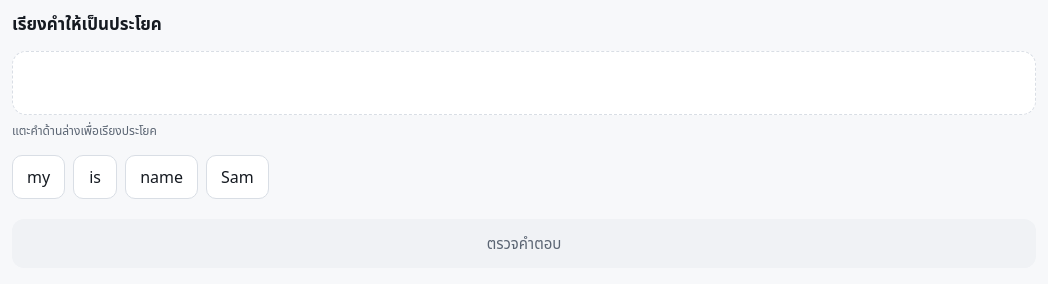
Scenario: ArrangeWords › locks check until every tile is used; tap to add and tap a placed tile to remove
Expected: the button "ตรวจคำตอบ" is disabled, [12,219,1036,268]
Click the button "my" at [39, 177], box [12,155,65,199]
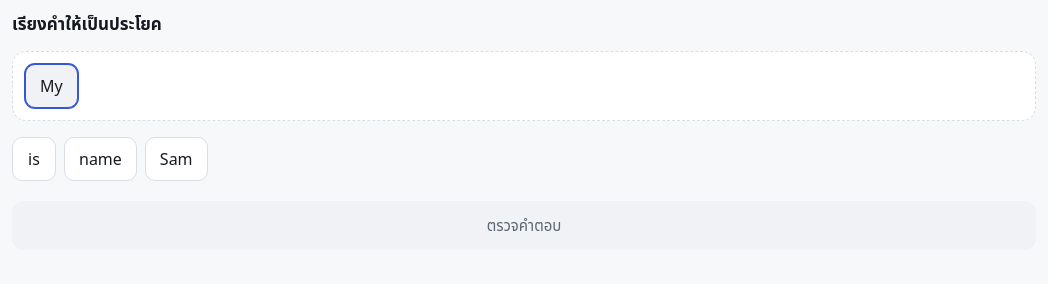
Click the button "name" at [100, 159], box [64,137,137,181]
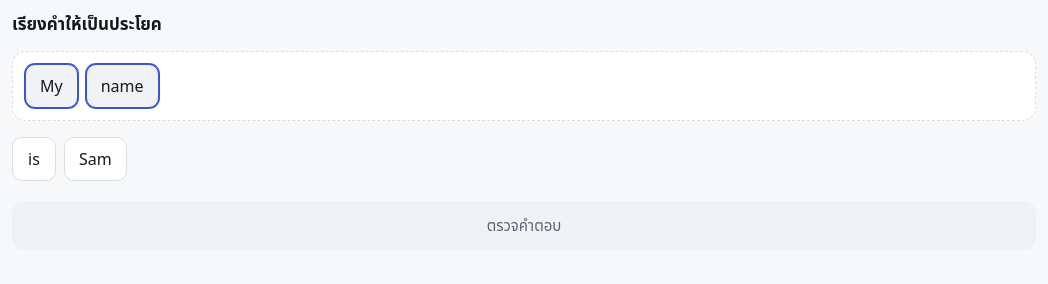
Result: the buttons read "My", "name", in this order
Click the button "My" at [51, 86], box [25,64,78,108]
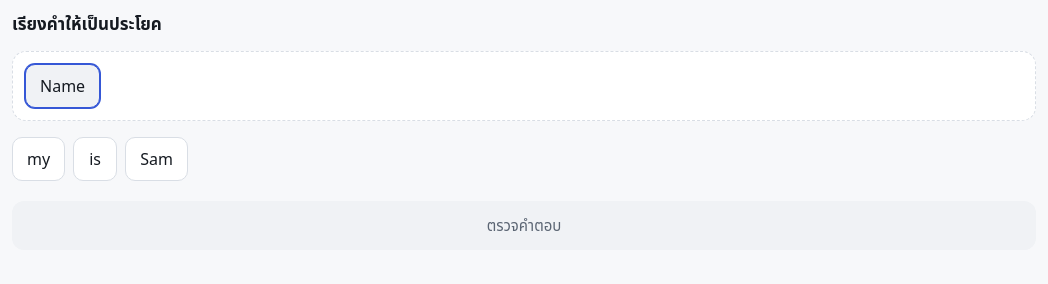
Result: the buttons read "Name", in this order at [25,64,100,108]
Click the button "my" at [39, 159], box [12,137,65,181]
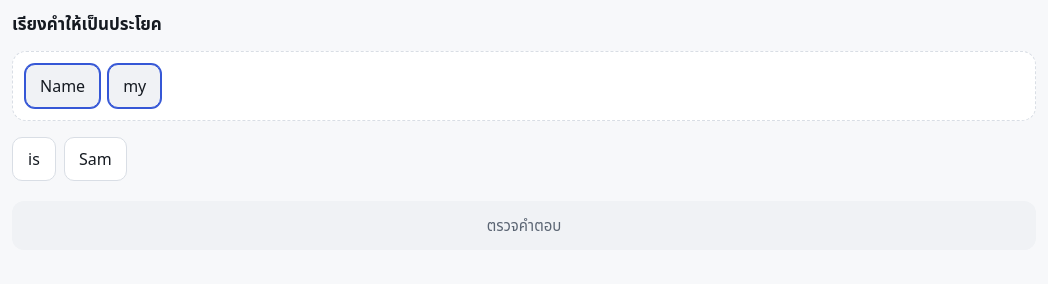
Click the button "is" at [34, 159], box [12,137,56,181]
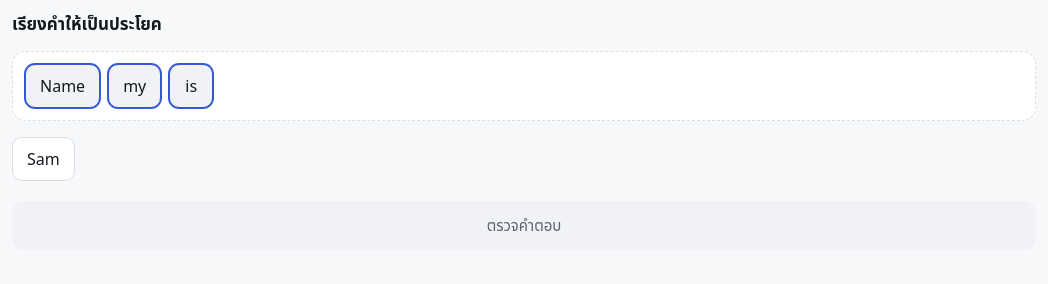
Click the button "Sam" at [43, 159], box [12,137,75,181]
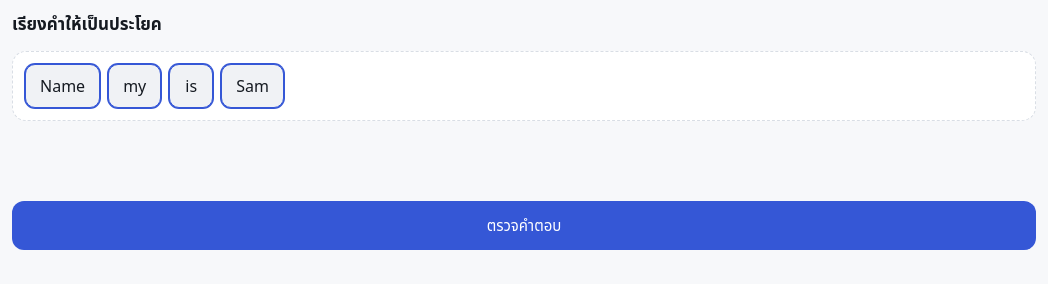
Result: the button "ตรวจคำตอบ" is enabled at [12,201,1036,250]
